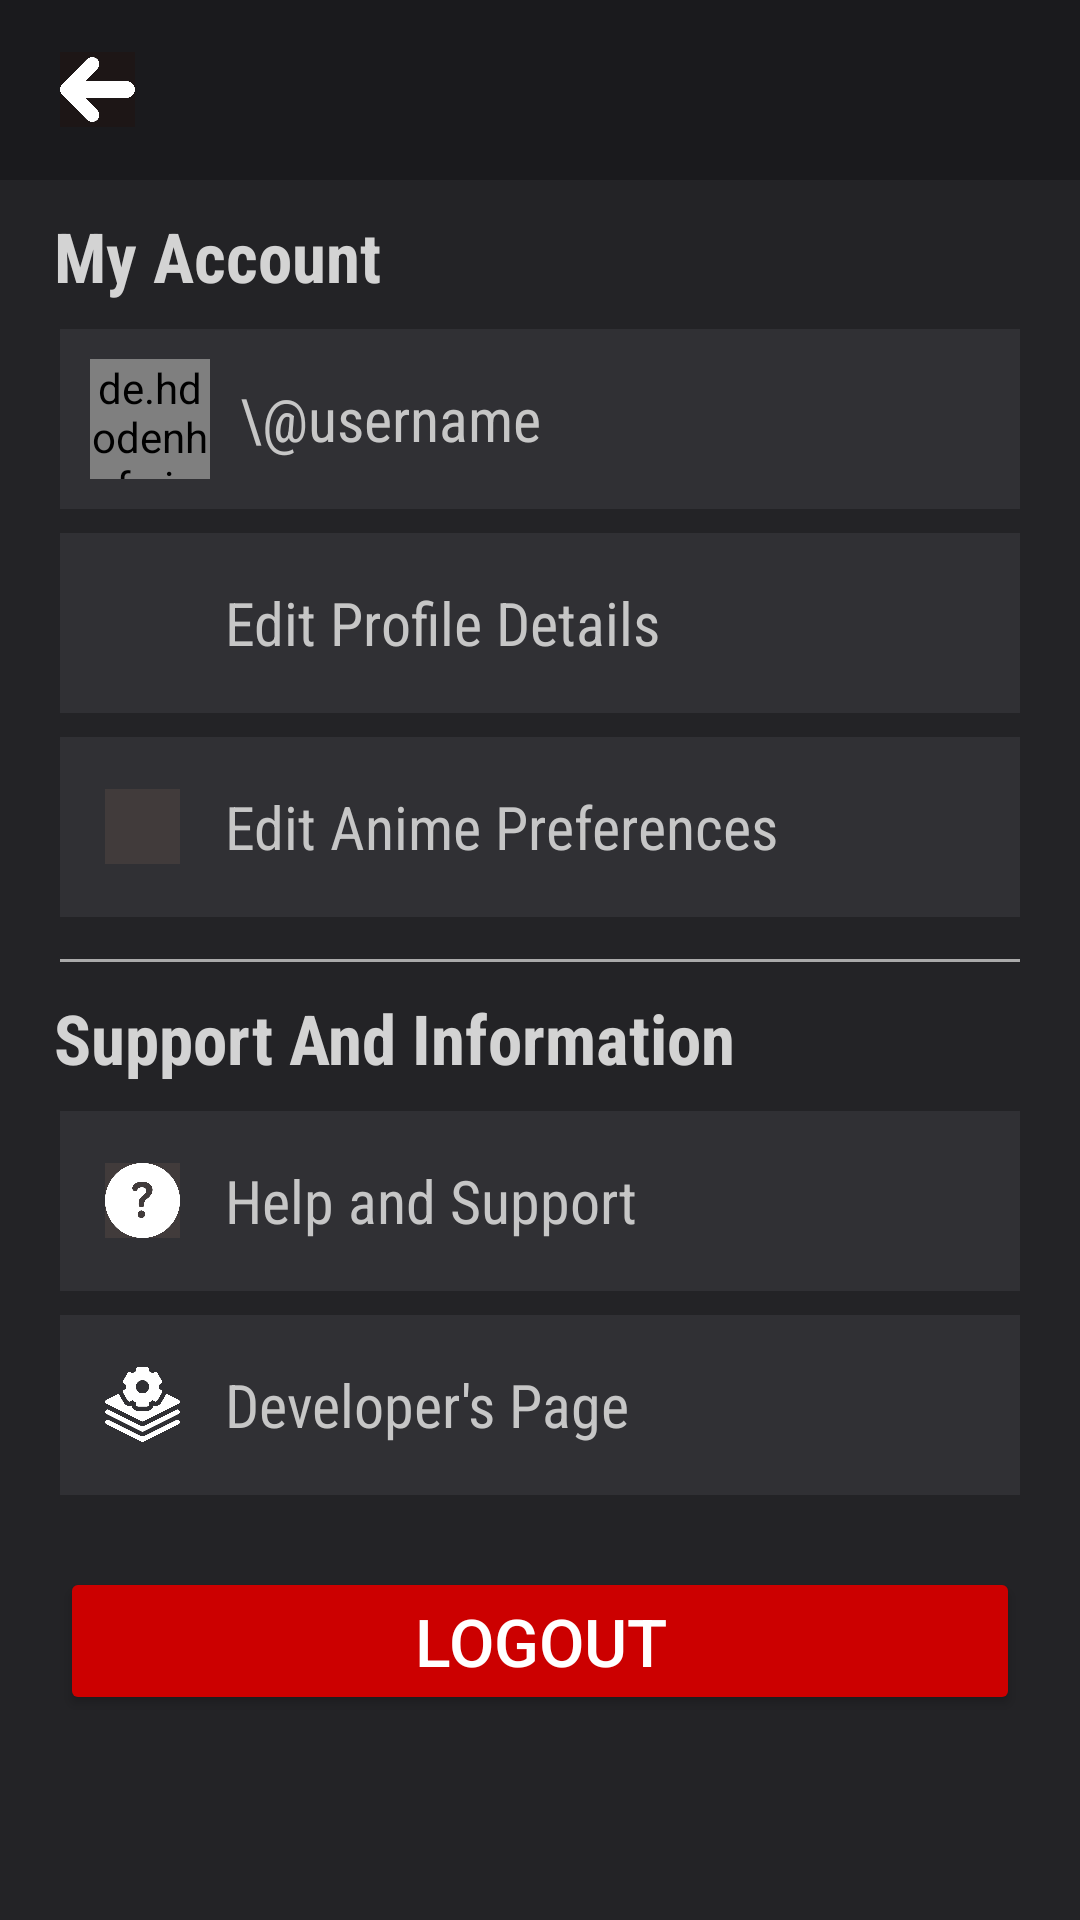

Icons on this 1080px x 1920px Android screen, each with its box as (x1, y1, x2, y2):
arrow left: (60, 57, 135, 122)
